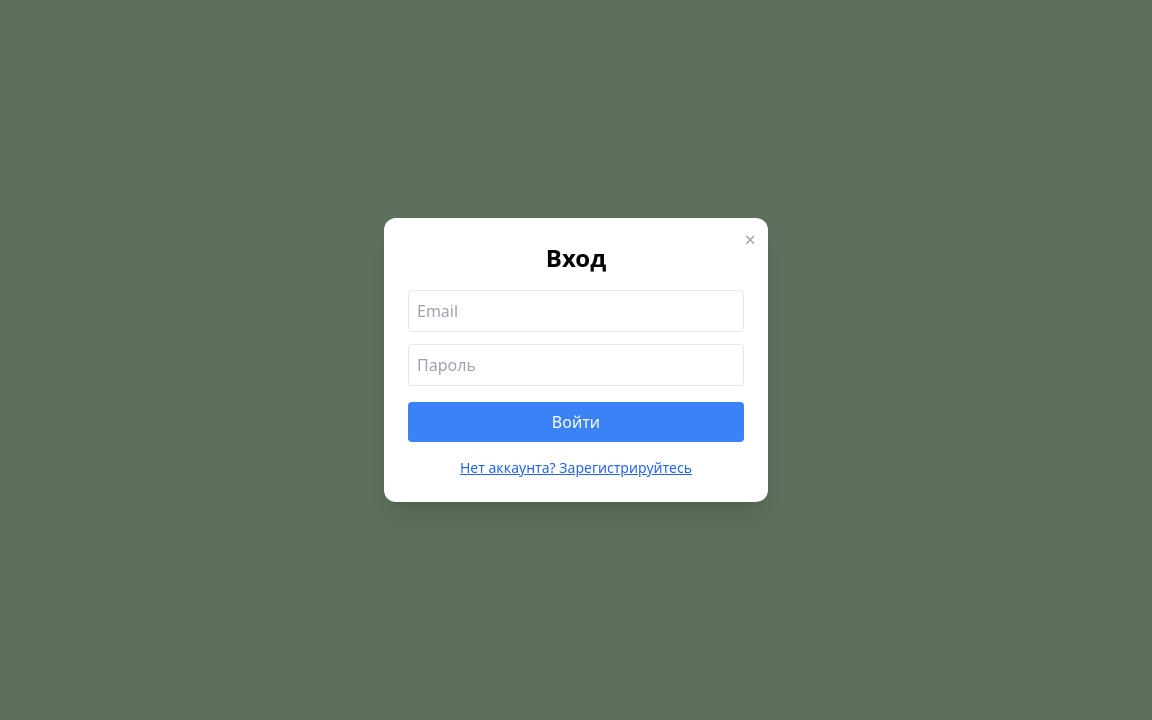
Test: AuthForm.vue › показывает ошибку при RESOURCE_INVALID_LOGIN_OR_PASSWORD
The width and height of the screenshot is (1152, 720).
Type "wrong@example.com" into the field with placeholder "Email". click: [576, 311]
box: [408, 290, 744, 332]
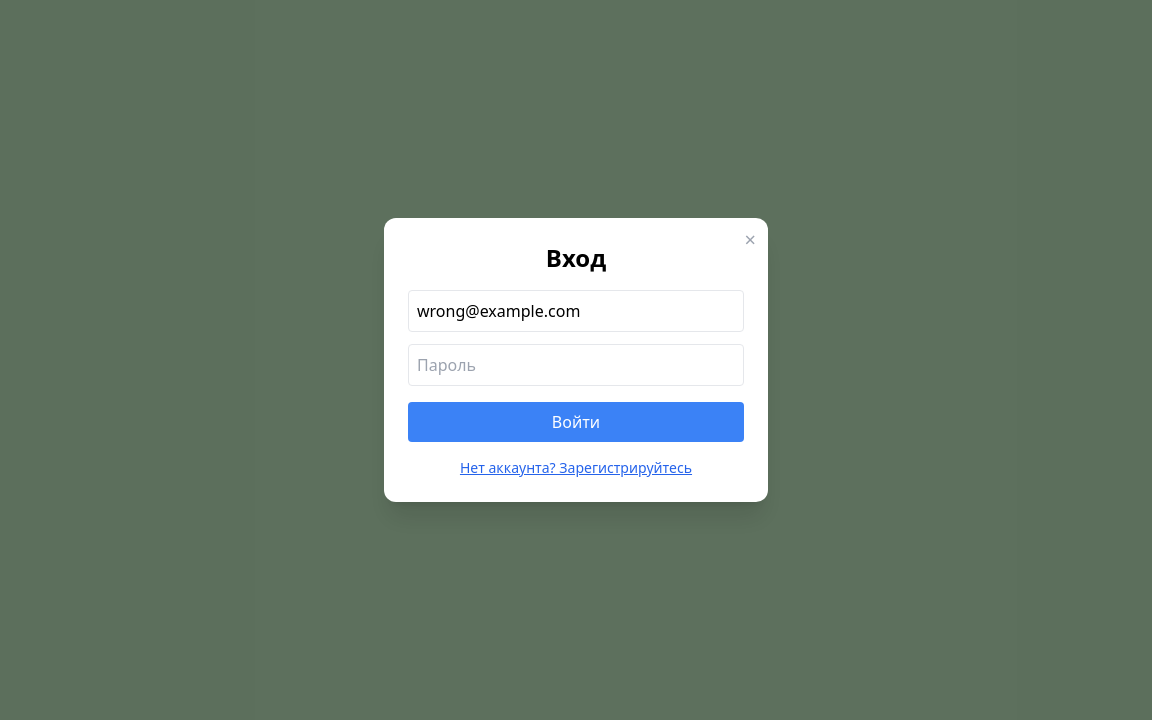
Type "wrongpass" into the password field with placeholder "Пароль". click: [576, 365]
box: [408, 344, 744, 386]
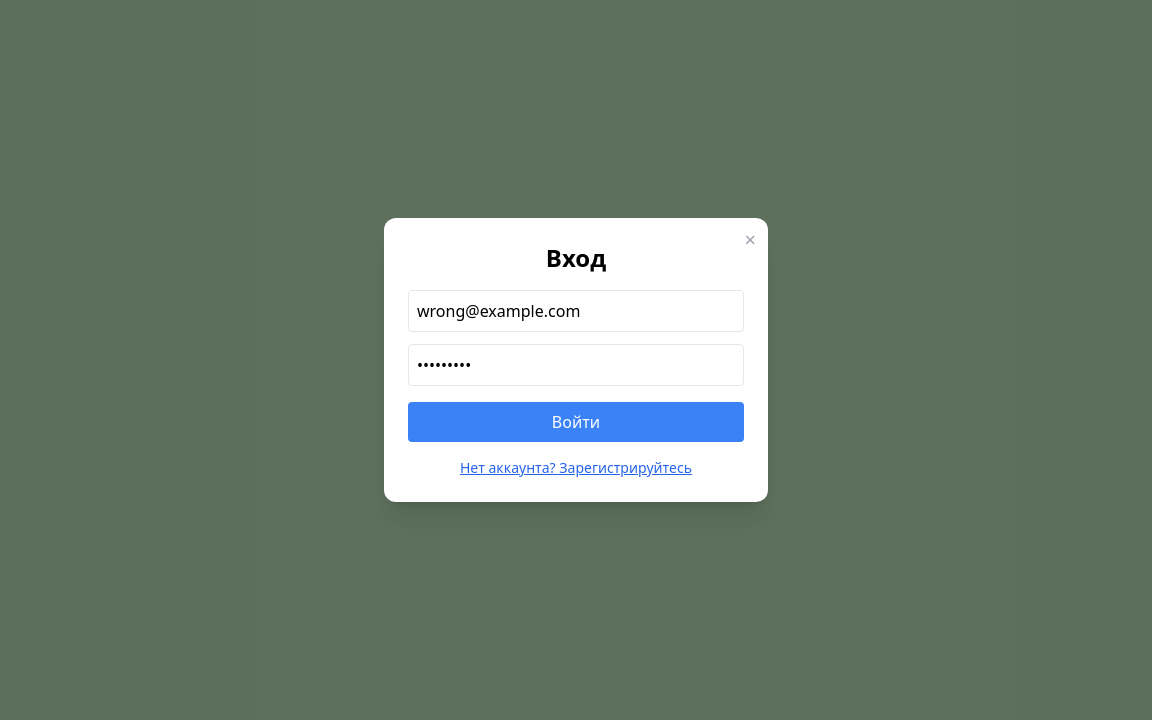
Click the button "Войти". click: [576, 422]
box: [408, 402, 744, 442]
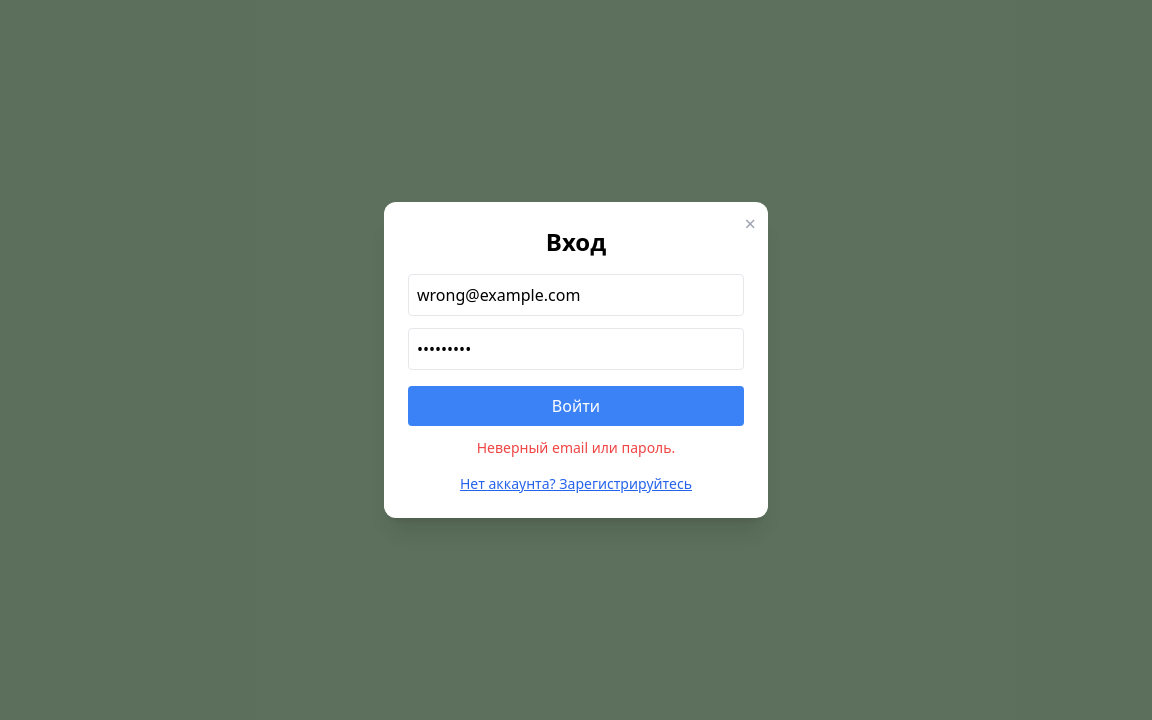
expect the text "Неверный email или пароль." is shown: met, box [477, 438, 675, 457]
